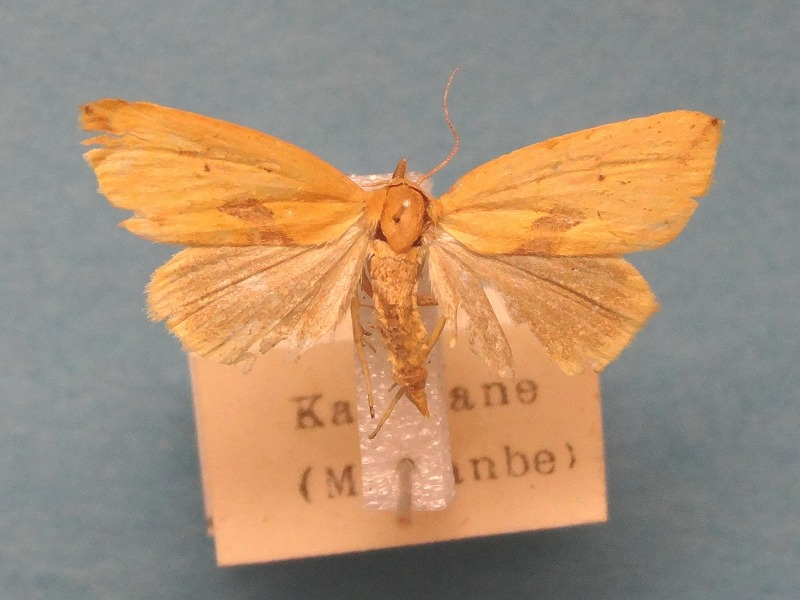Noctuidae: (75, 73, 733, 423)
